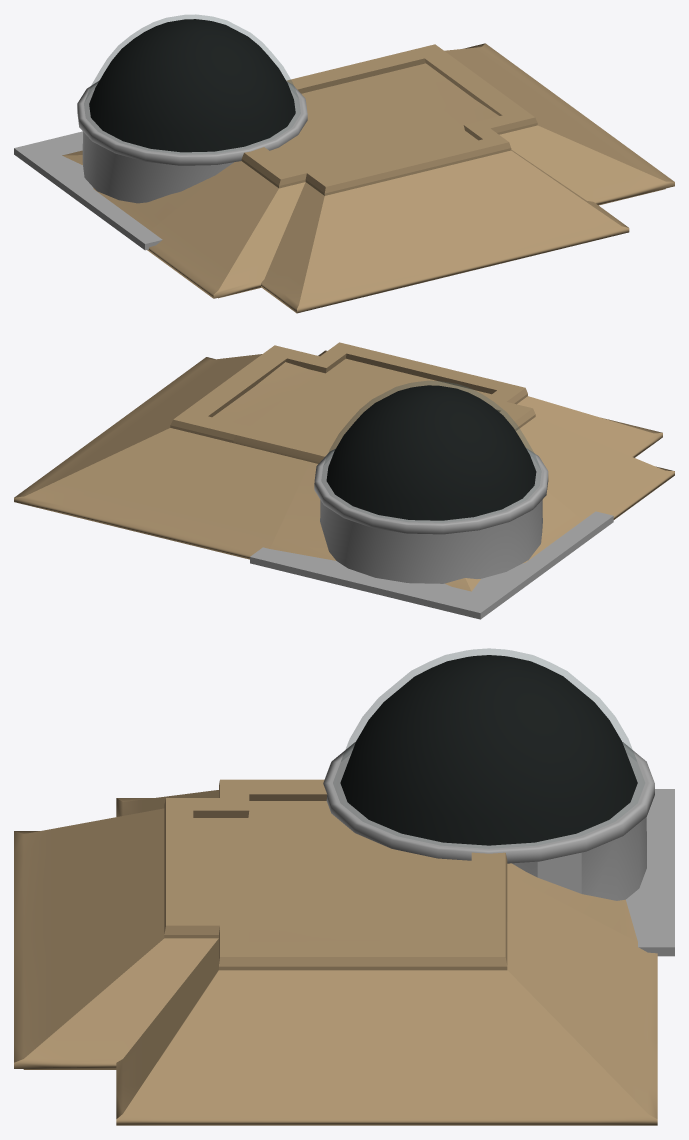
The model's file is Dome_InsideWithRoof.fbx.
The picture shows the model from 3 angles, top to bottom: view 1: azimuth 30°, elevation 25°; view 2: azimuth 150°, elevation 25°; view 3: azimuth 270°, elevation 25°; orthographic projection. The views are drawn at different scales.
Visible parts, largest first — view 1: MansionRoof, Dome_Glass, Dome_Glass_Background, Dome_Base, Dome_Inside_Roof; view 2: MansionRoof, Dome_Glass, Dome_Glass_Background, Dome_Base, Dome_Inside_Roof; view 3: MansionRoof, Dome_Glass, Dome_Glass_Background, Dome_Base, Dome_Inside_Roof.
Part boxes in pixels (<box>): MansionRoof: <box>62,43,674,313</box>; Dome_Glass: <box>84,14,300,153</box>; Dome_Glass_Background: <box>89,19,295,152</box>; Dome_Base: <box>77,81,307,203</box>; Dome_Inside_Roof: <box>14,131,162,250</box>; MansionRoof: <box>14,342,674,591</box>; Dome_Glass: <box>322,381,540,522</box>; Dome_Glass_Background: <box>326,385,536,520</box>; Dome_Base: <box>314,448,548,583</box>; Dome_Inside_Roof: <box>250,511,613,619</box>; MansionRoof: <box>14,779,657,1125</box>; Dome_Glass: <box>333,648,644,848</box>; Dome_Glass_Background: <box>340,655,637,845</box>; Dome_Base: <box>323,742,654,900</box>; Dome_Inside_Roof: <box>626,789,674,956</box>.
Bounding box in the file's own units: 291 × 96.25 × 251.
